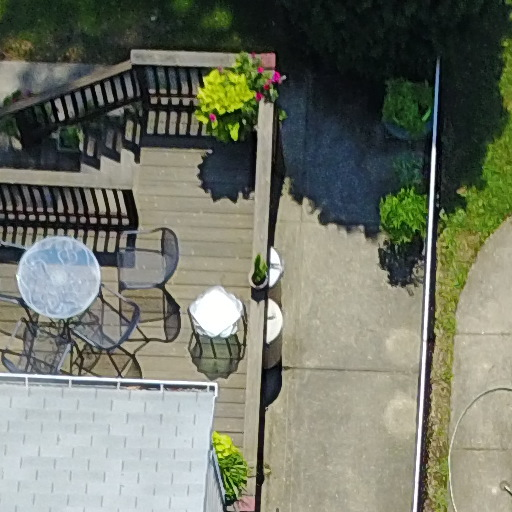flower pot: (244, 256, 282, 301)
porch: (1, 42, 317, 512)
